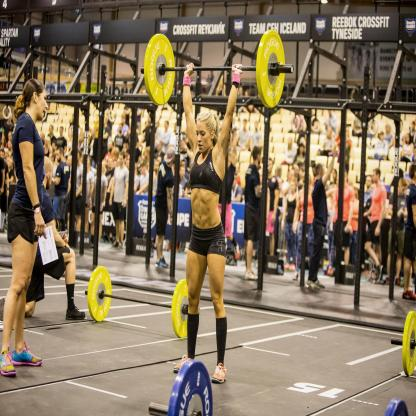barbell: (257, 30, 286, 109), (145, 34, 176, 107)
